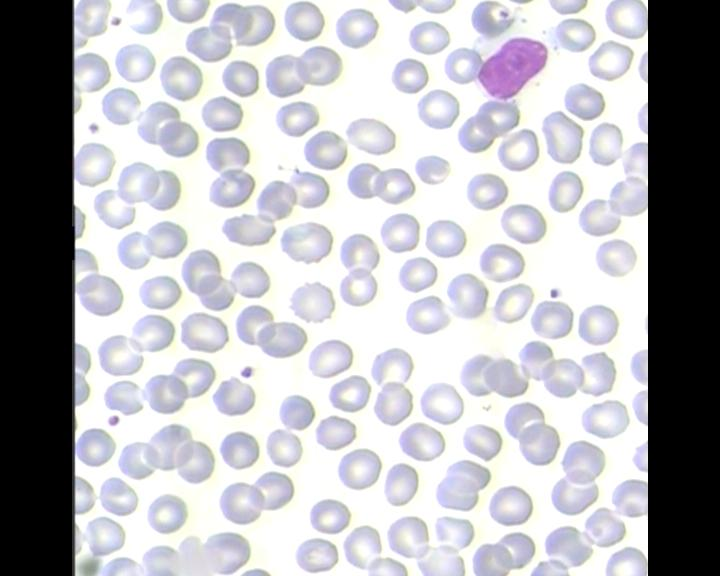mono: (471, 15, 558, 102)
